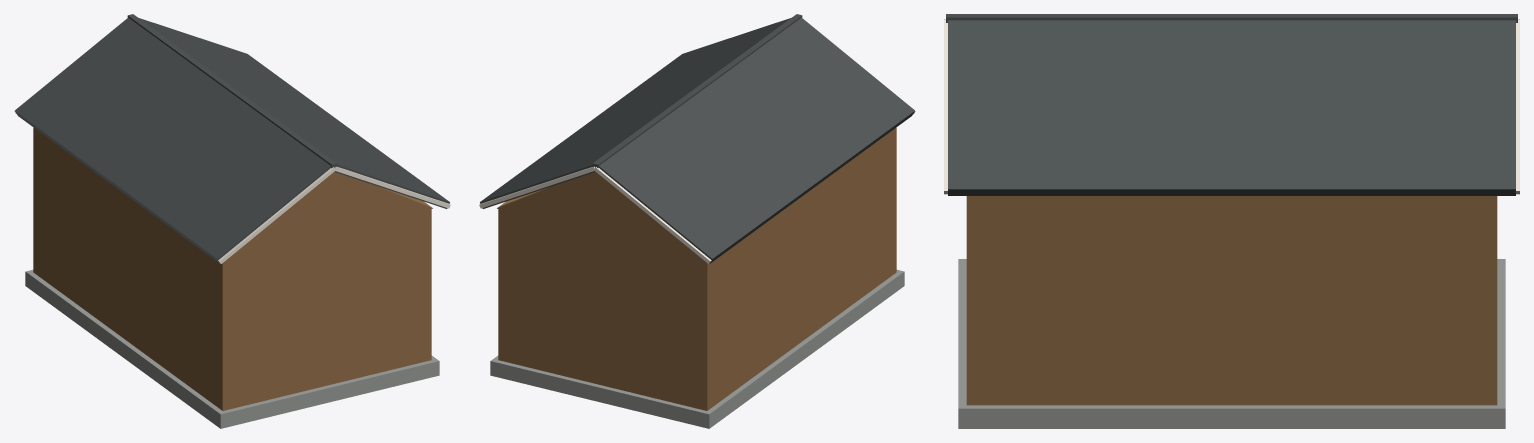
File: norway-barn_lod1.glb
3 renders of one model, left to right at view 1: azimuth 30°, elevation 25°; view 2: azimuth 150°, elevation 25°; view 3: azimuth 270°, elevation 25°, orthographic. The views are drawn at different scales.
Visible parts, largest first — view 1: RF_Barn_Walls, RF_Barn_RoofA, RF_Barn_RoofB, RF_Barn_Foundation, RF_Barn_Gables, RF_Barn_RidgeCap, RF_Barn_VergeLeftFront, RF_Barn_VergeRightFront; view 2: RF_Barn_Walls, RF_Barn_RoofA, RF_Barn_RoofB, RF_Barn_Foundation, RF_Barn_Gables, RF_Barn_RidgeCap, RF_Barn_VergeLeftRear, RF_Barn_VergeRightRear; view 3: RF_Barn_Walls, RF_Barn_RoofB, RF_Barn_Foundation, RF_Barn_RidgeCap, RF_Barn_VergeRightRear, RF_Barn_VergeRightFront.
Boxes of the visible parts, box(x1,y1,x2,y2) form: RF_Barn_Walls: box(33, 127, 431, 410); RF_Barn_RoofA: box(15, 17, 330, 264); RF_Barn_RoofB: box(139, 18, 449, 208); RF_Barn_Foundation: box(25, 269, 439, 428); RF_Barn_Gables: box(228, 172, 432, 258); RF_Barn_RidgeCap: box(127, 14, 337, 168); RF_Barn_VergeLeftFront: box(218, 167, 335, 263); RF_Barn_VergeRightFront: box(335, 166, 450, 208); RF_Barn_Walls: box(498, 127, 896, 410); RF_Barn_RoofA: box(599, 17, 914, 264); RF_Barn_RoofB: box(480, 18, 790, 208); RF_Barn_Foundation: box(490, 269, 904, 428); RF_Barn_Gables: box(497, 172, 701, 258); RF_Barn_RidgeCap: box(592, 14, 802, 168); RF_Barn_VergeLeftRear: box(594, 167, 711, 263); RF_Barn_VergeRightRear: box(479, 166, 594, 208); RF_Barn_Walls: box(966, 196, 1497, 405); RF_Barn_RoofB: box(948, 20, 1515, 195); RF_Barn_Foundation: box(958, 259, 1505, 428); RF_Barn_RidgeCap: box(946, 14, 1517, 22); RF_Barn_VergeRightRear: box(1515, 20, 1519, 194); RF_Barn_VergeRightFront: box(944, 20, 947, 194).
Size of the model in its own units: 11.7 by 11.6 by 17.9.
